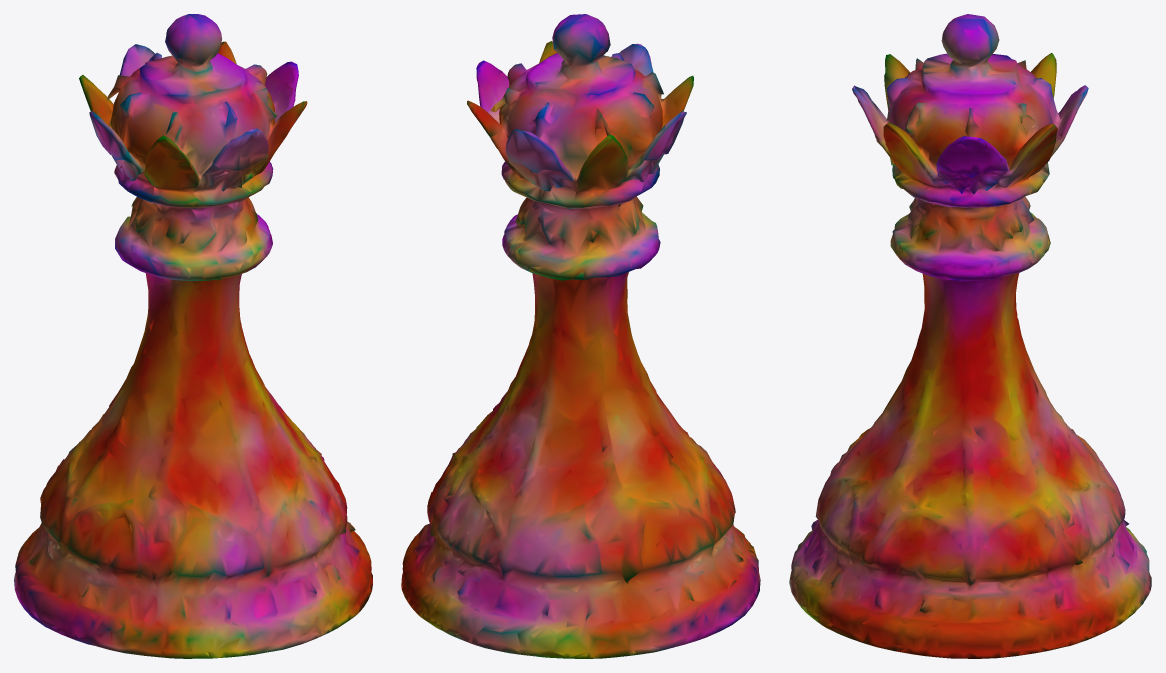
Rendered from queen.glb.
3 renders of one model, left to right at view 1: azimuth 30°, elevation 25°; view 2: azimuth 150°, elevation 25°; view 3: azimuth 270°, elevation 25°, orthographic.
Parts seen in each view (by area): view 1: geometry_0; view 2: geometry_0; view 3: geometry_0.
Boxes of the visible parts, <box> form: geometry_0: <box>14,14,372,658</box>; geometry_0: <box>401,14,760,658</box>; geometry_0: <box>789,14,1151,658</box>.
Size of the model in its own units: 0.5797 by 1 by 0.5816.
